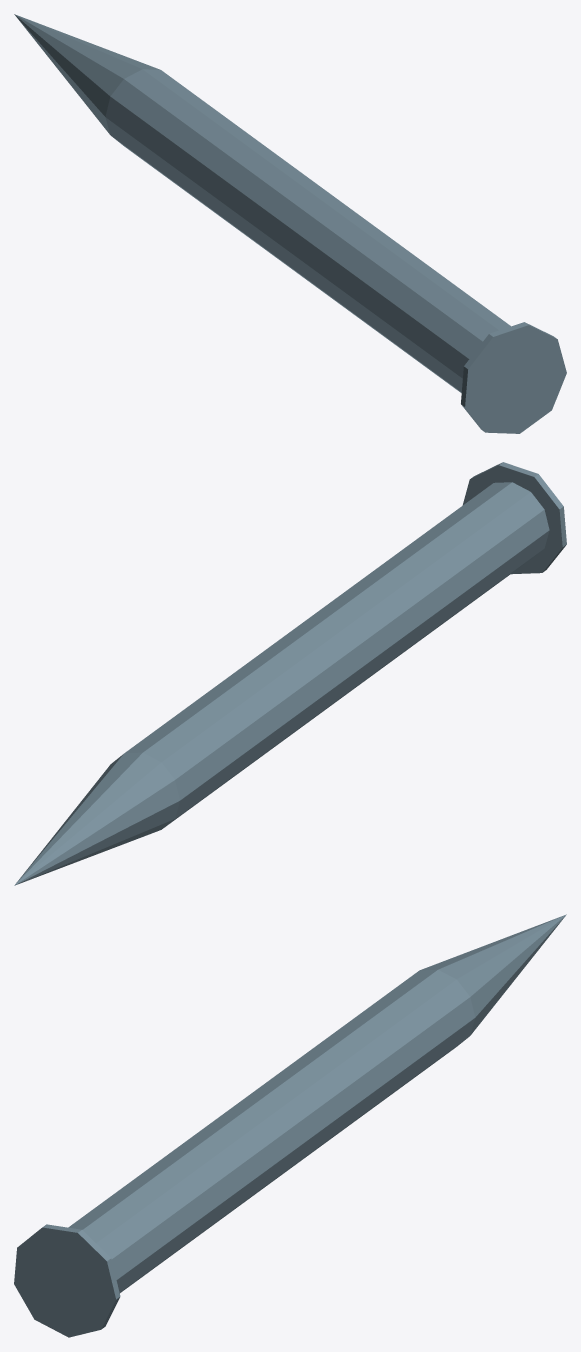
The model's file is model-triangulated.obj.
The picture shows the model from 3 angles, top to bottom: view 1: azimuth 30°, elevation 25°; view 2: azimuth 150°, elevation 25°; view 3: azimuth 330°, elevation 25°; orthographic projection.
Parts seen in each view (by area): view 1: group832330870, group1505152189; view 2: group832330870, group1505152189; view 3: group832330870, group1505152189.
Boxes of the visible parts, box(x1,y1,x2,y2) form: group832330870: box(14, 14, 510, 392); group1505152189: box(461, 322, 566, 433); group832330870: box(14, 482, 549, 885); group1505152189: box(462, 462, 566, 574); group832330870: box(68, 914, 566, 1293); group1505152189: box(14, 1224, 120, 1337).
Bounding box in the file's own units: 0.0687 × 0.0687 × 0.585.
